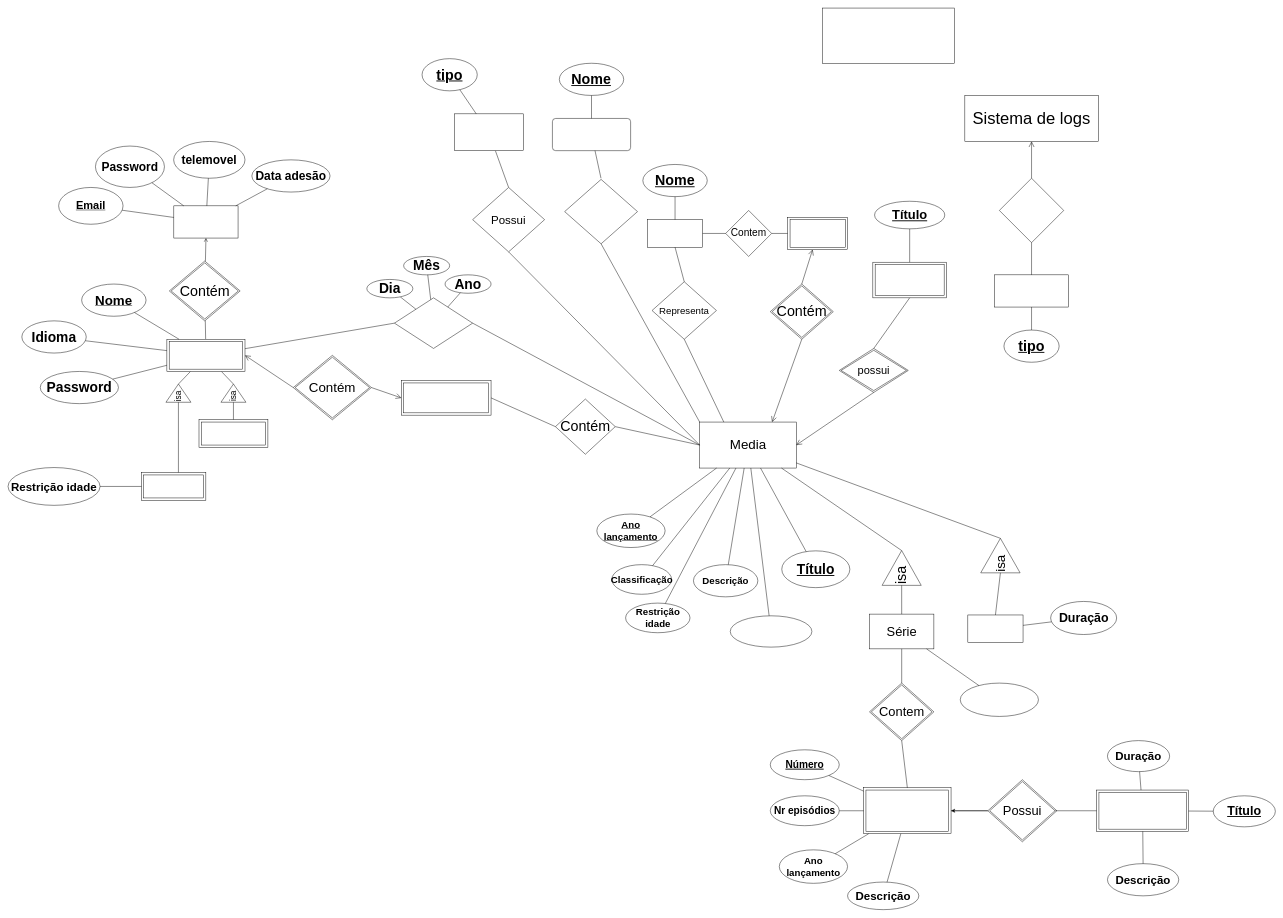
This 1283x918 diagram has some shape labels left out. The shapes that lost their labels are listed below. From the top down, each one's centre as x and y in pixels, then its label:
At [888,35]: "Sistema de recomendações".
At [488,132]: "Género".
At [591,134]: "Realizador".
At [205,221]: "Conta".
At [601,211]: "Realiza".
At [1031,210]: "Regista".
At [675,233]: "Ator".
At [817,233]: "Elenco".
At [909,280]: "Trailer".
At [1031,290]: "Evento".
At [433,322]: "Visualiza".
At [205,355]: "Perfil".
At [446,397]: "Lista".
At [233,433]: "Normal".
At [173,486]: "Criança".
At [771,631]: "Downloadable".
At [995,629]: "Filme".
At [999,699]: "Nr Temporadas".
At [907,810]: "Temporada".
At [1142,810]: "Episodio".
